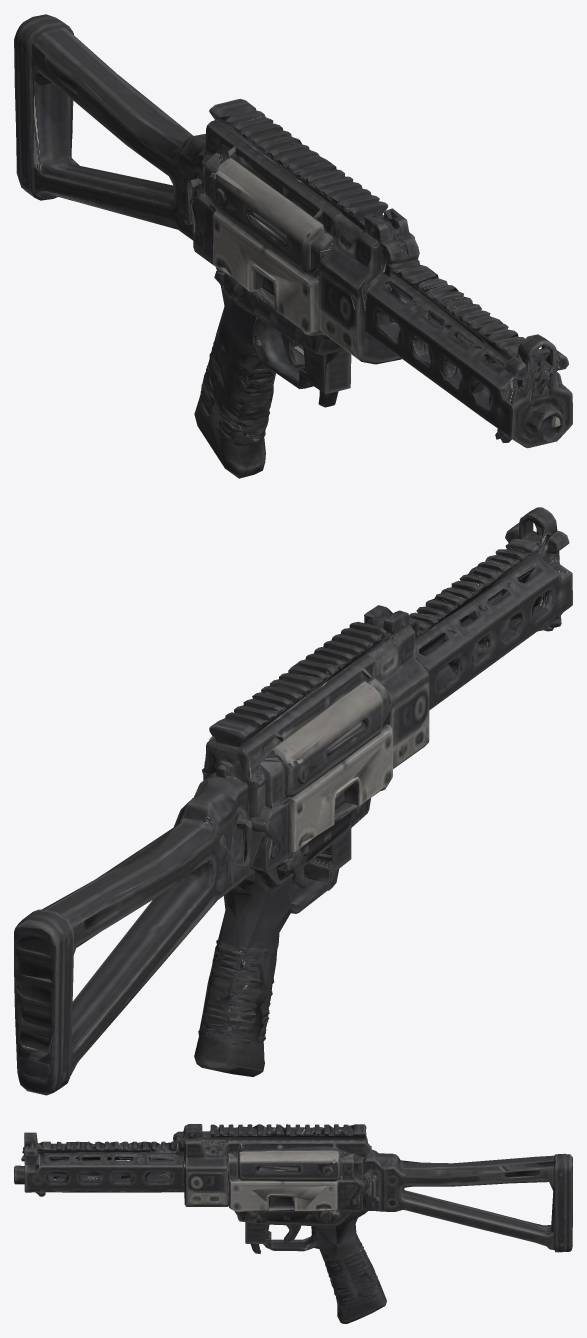
File: compact_carbine.glb
The picture shows the model from 3 angles, top to bottom: view 1: azimuth 30°, elevation 25°; view 2: azimuth 150°, elevation 25°; view 3: azimuth 270°, elevation 25°; orthographic projection. The views are drawn at different scales.
Parts seen in each view (by area): view 1: model, mesh_lod; view 2: model, mesh_lod; view 3: model, mesh_lod.
Part boxes in pixels (x1,y1,x2,y2): model: (14, 14, 572, 478); mesh_lod: (18, 26, 572, 469); model: (14, 507, 572, 1095); mesh_lod: (14, 509, 571, 1089); model: (14, 1124, 572, 1323); mesh_lod: (16, 1125, 572, 1316).
Bounding box in the file's own units: 0.0694 × 0.254 × 0.66.
1 material, 1 textured.
